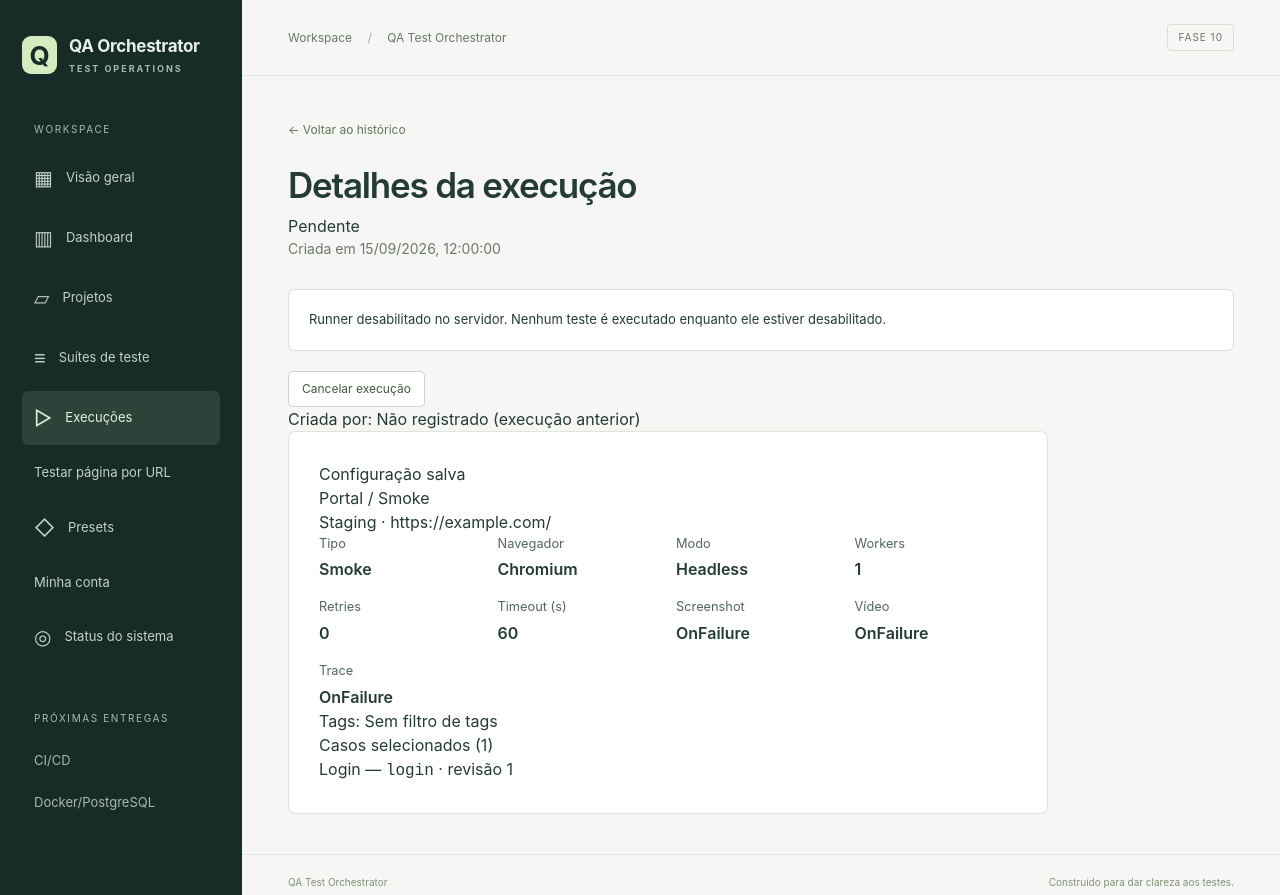
it: exibe snapshot e preserva estado ao falhar cancelamento
What coordinates should you click on to do the following:
click the button "Cancelar execução"
I would click on:
 (356, 388)
Its box is [288, 370, 425, 406].
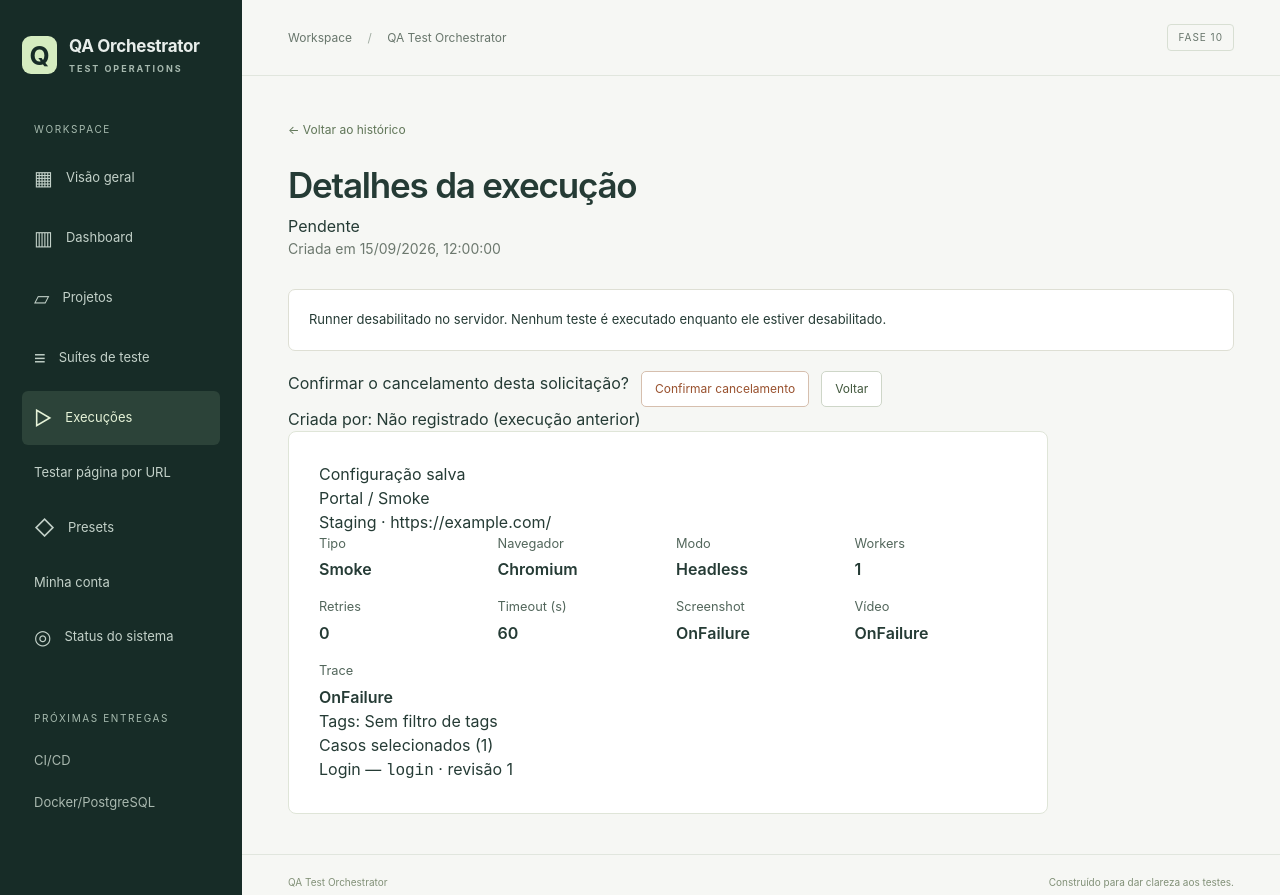
What coordinates should you click on to do the following:
click the button "Confirmar cancelamento"
I would click on:
 (725, 388)
Its box is [641, 370, 809, 406].
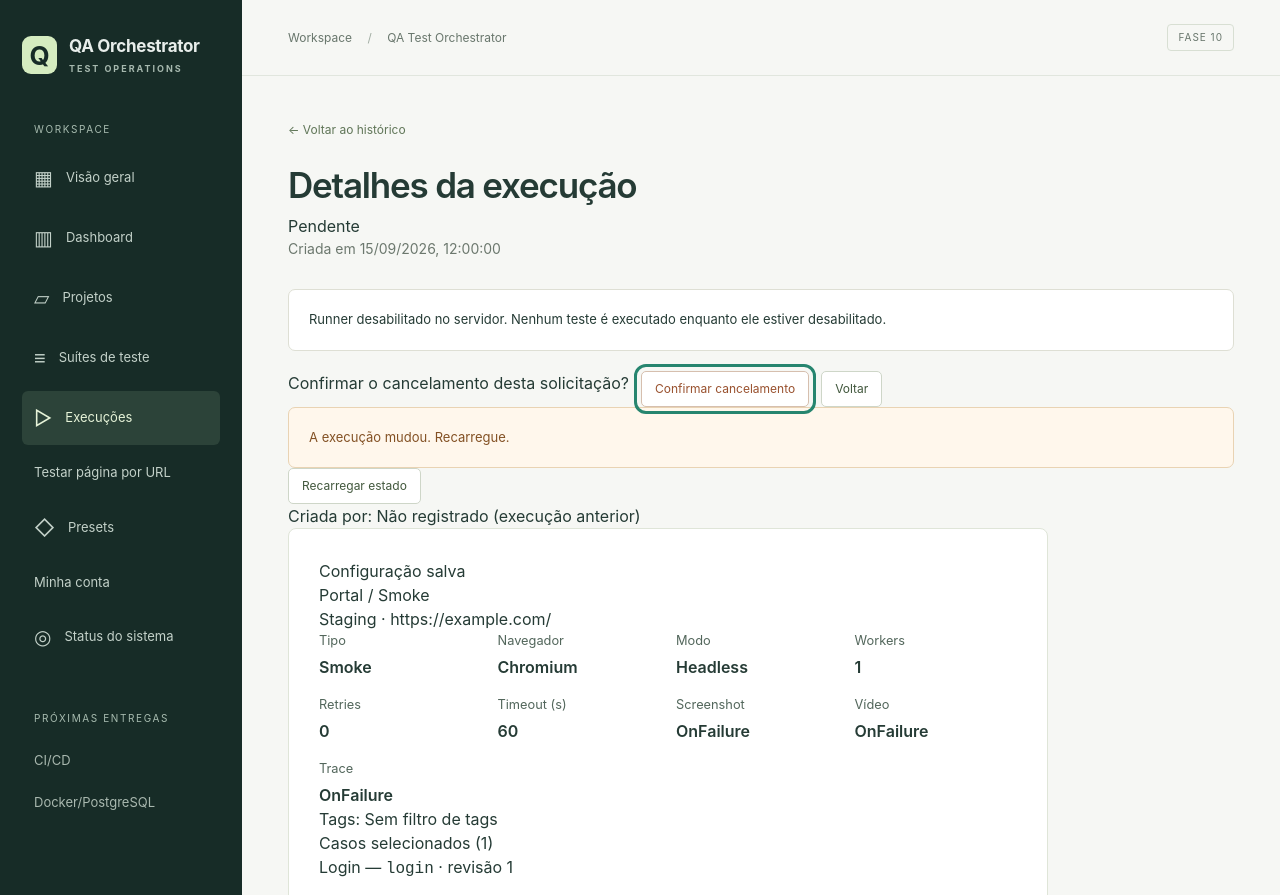
Check: the message "Pendente" is shown, box [288, 216, 360, 236]
Check: the message "A execução mudou. Recarregue." is shown, box [288, 406, 1234, 468]
